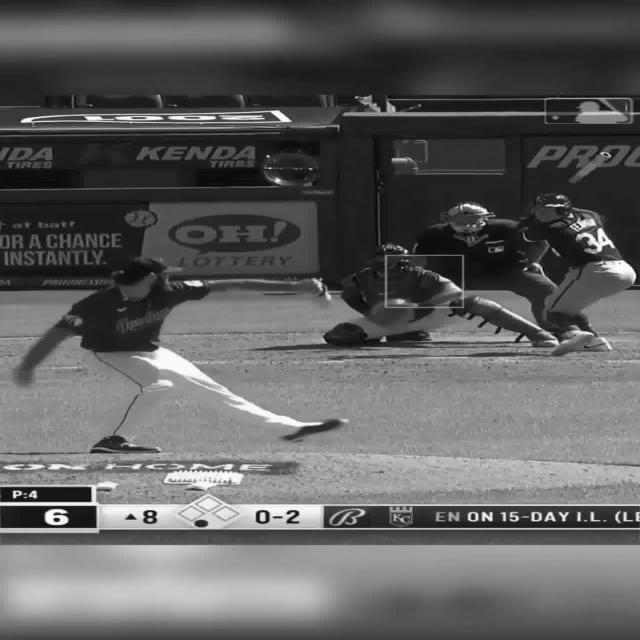baseball: (96, 481, 118, 491), (337, 418, 349, 424)
baseball_glove: (375, 302, 415, 326), (307, 278, 328, 308)
bat: (563, 151, 612, 187)
shoe: (281, 418, 343, 442), (90, 436, 162, 454), (550, 330, 594, 356), (323, 322, 367, 346), (580, 336, 612, 352), (385, 330, 431, 341), (529, 331, 559, 347)
